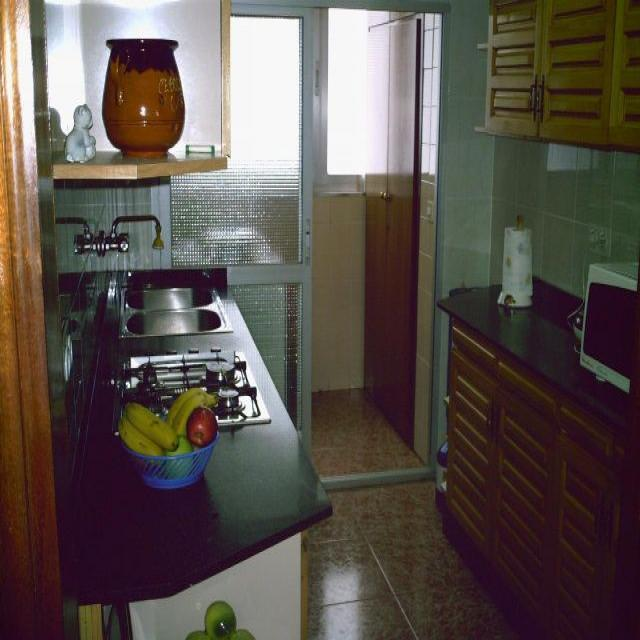apple: (155, 379, 182, 418)
banana: (103, 375, 147, 422)
cup glass: (404, 5, 532, 139)
door handle: (259, 8, 370, 448)
kitchen drawers: (58, 268, 277, 559)
microwave oven: (482, 241, 531, 365)
pottery: (53, 96, 81, 154)
sink basin: (97, 266, 190, 316)
stove burner: (89, 326, 226, 409)
tab: (83, 199, 138, 242)
tissue: (420, 216, 443, 285)
vase -X: (87, 38, 152, 149)
